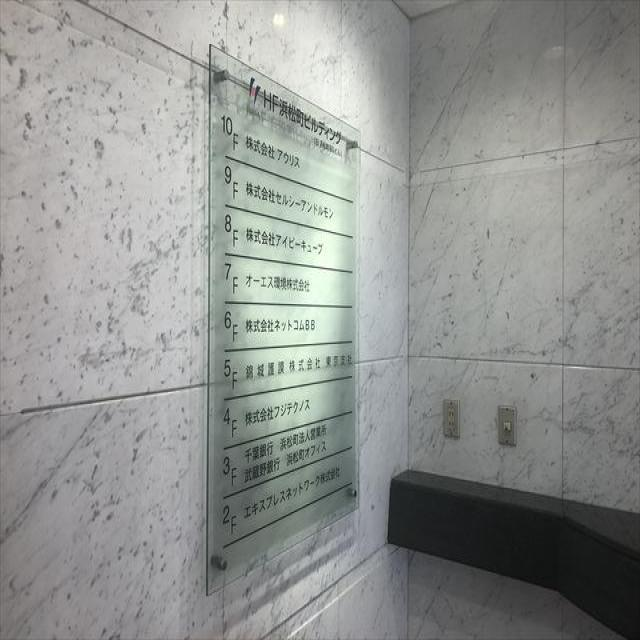building: (261, 84, 348, 148)
facility: (242, 463, 342, 523), (244, 176, 336, 227), (243, 350, 354, 386), (243, 223, 326, 262), (243, 394, 312, 430), (244, 131, 303, 173), (243, 270, 313, 297), (278, 422, 328, 454), (244, 315, 318, 335), (285, 439, 328, 470), (242, 455, 282, 486), (243, 438, 275, 466)
floor: (220, 110, 243, 157), (220, 498, 238, 543), (222, 161, 241, 203), (222, 209, 241, 251), (220, 451, 239, 492), (221, 402, 240, 442), (222, 259, 241, 298), (222, 307, 242, 344), (222, 355, 241, 392)
